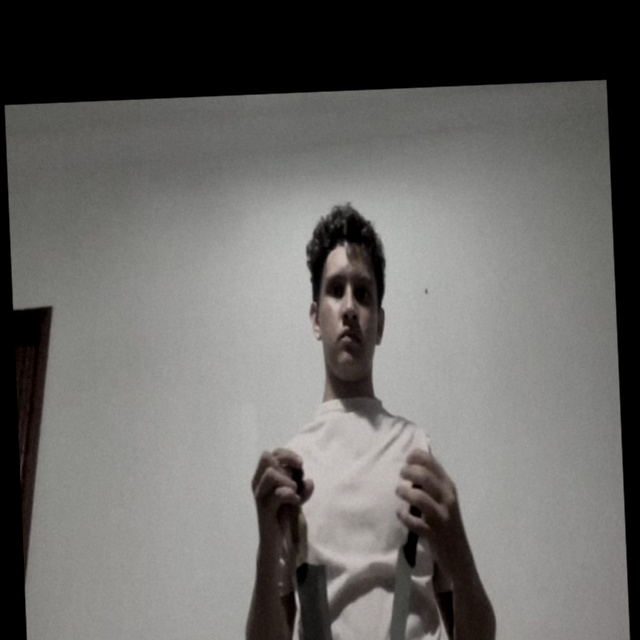Sharp-Object: (295, 560, 337, 640), (385, 543, 416, 640)
